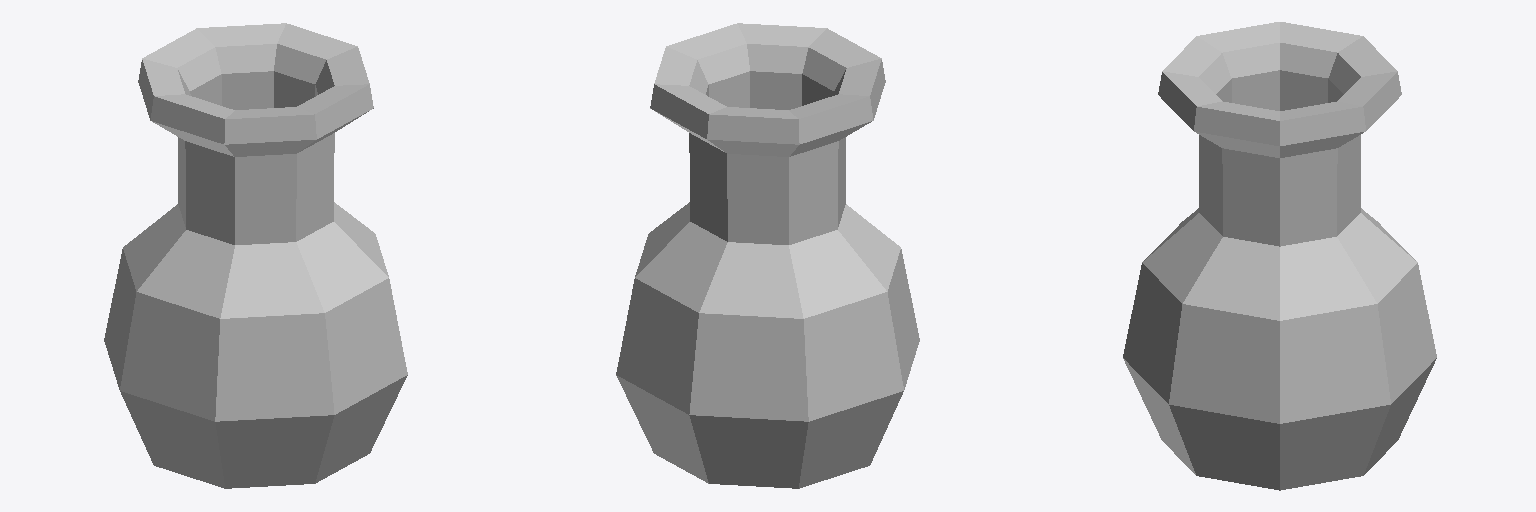
Rendered from Jug.obj.
3 views of the same model, side by side, from view 1: azimuth 30°, elevation 25°; view 2: azimuth 150°, elevation 25°; view 3: azimuth 270°, elevation 25° (orthographic).
Parts seen in each view (by area): view 1: Jug; view 2: Jug; view 3: Jug.
Part boxes in pixels (x1,y1,x2,y2): Jug: (104, 23, 407, 488); Jug: (616, 23, 919, 488); Jug: (1123, 22, 1436, 490).
Bounding box in the file's own units: 0.5017 × 0.65 × 0.5017.